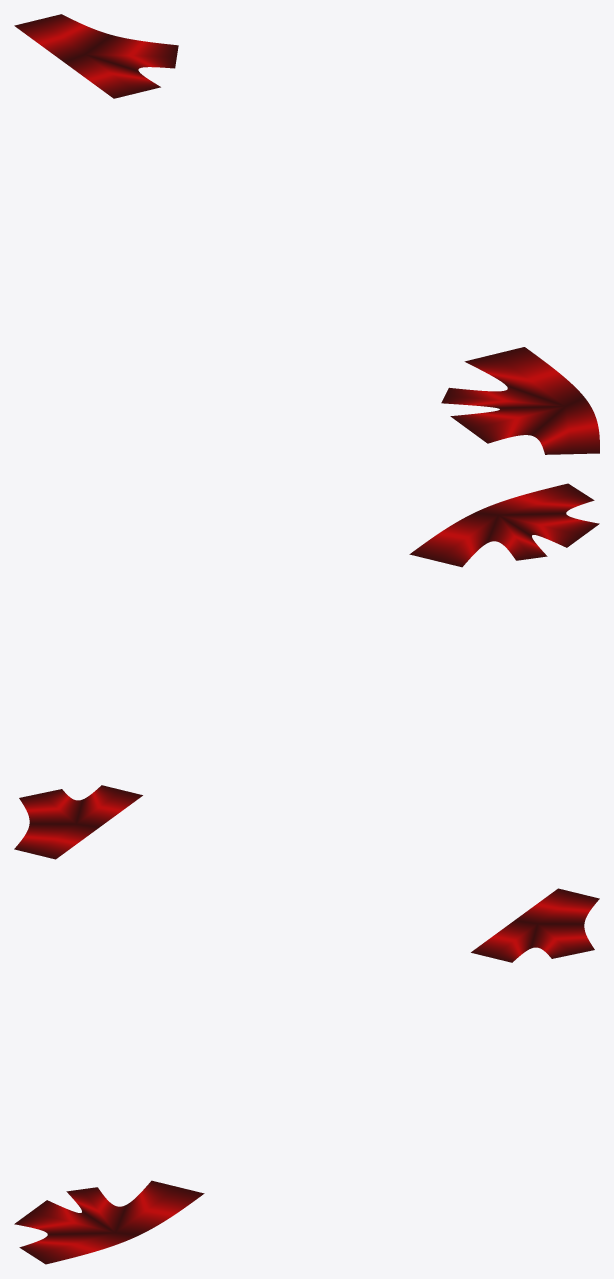
Rendered from intersection.fbx.
3 renders of one model, top to bottom at view 1: azimuth 30°, elevation 25°; view 2: azimuth 150°, elevation 25°; view 3: azimuth 330°, elevation 25°, orthographic. The views are drawn at different scales.
Parts seen in each view (by area): view 1: geo1; view 2: geo1; view 3: geo1.
Part boxes in pixels (x1,y1,x2,y2): geo1: (14,14,599,454); geo1: (14,483,599,859); geo1: (14,888,599,1264).
Size of the model in its own units: 3707 by 0.000948 by 21286.
